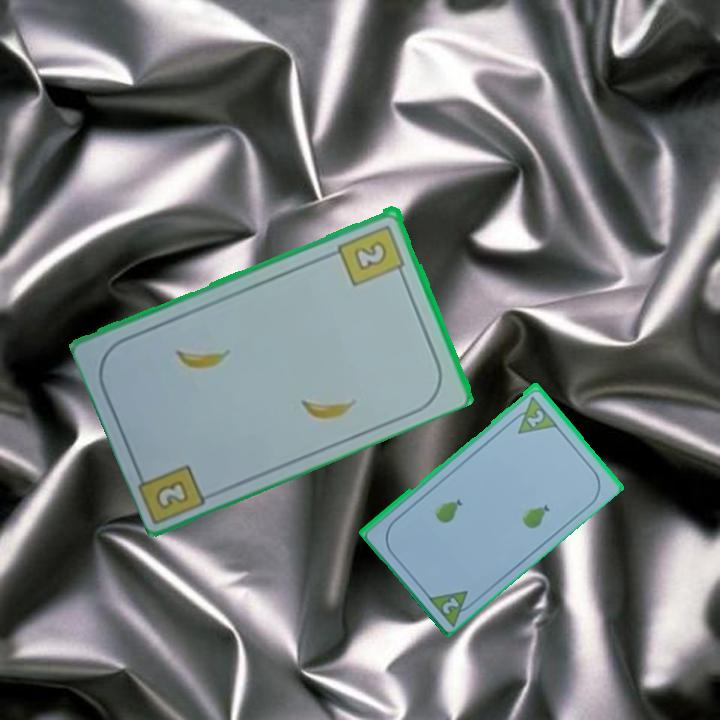2b: (335, 221, 408, 289), (152, 475, 192, 513)
2p: (523, 406, 547, 430), (438, 593, 462, 617)
